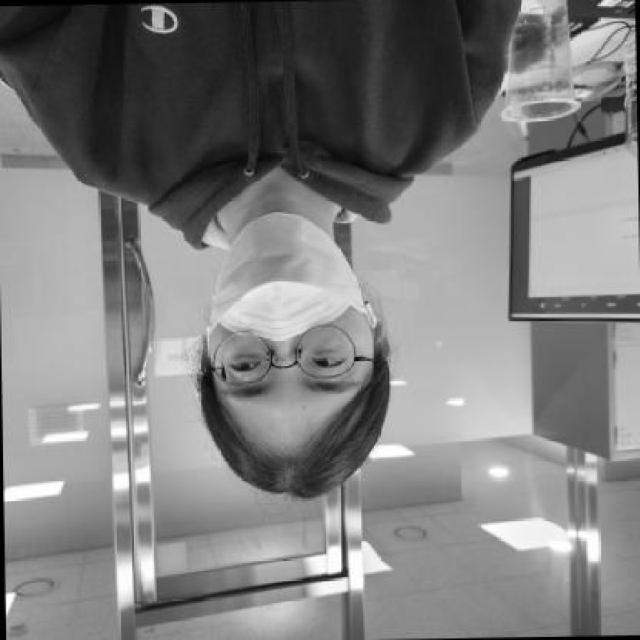earphone: (362, 290, 385, 337)
laptop_computer: (486, 117, 640, 409)
